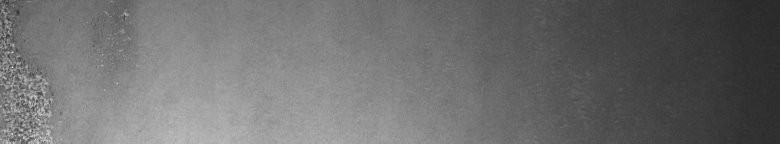hc: (4, 4, 131, 136)
